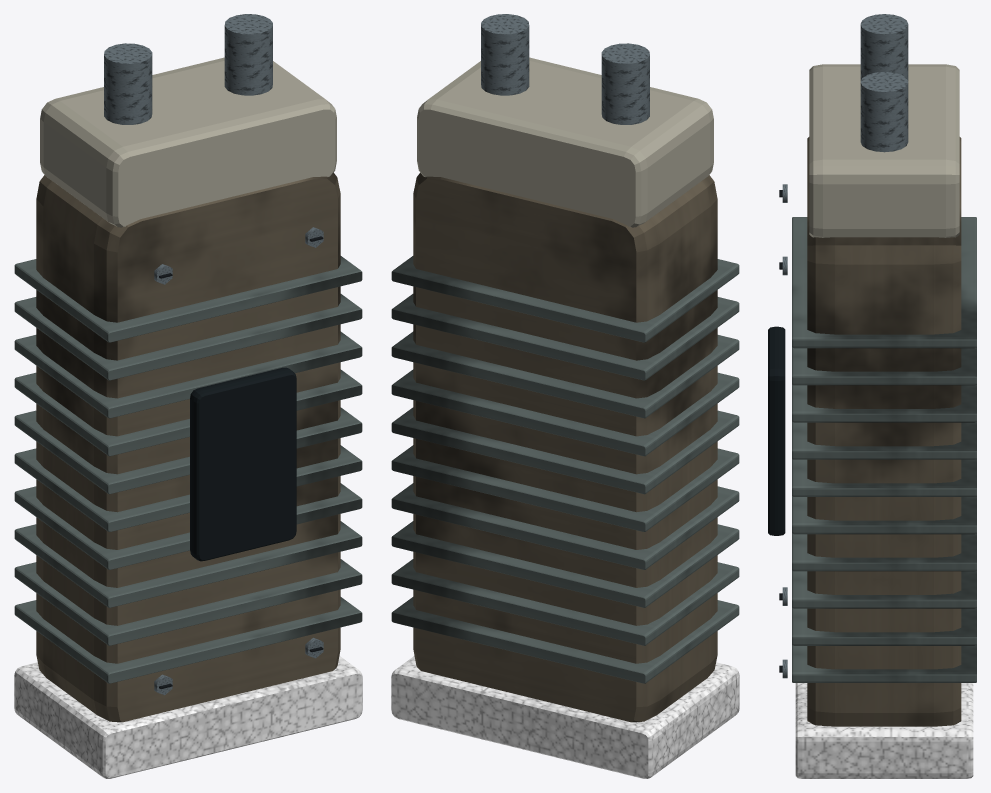
3 views of the same model, side by side, from view 1: azimuth 30°, elevation 25°; view 2: azimuth 150°, elevation 25°; view 3: azimuth 270°, elevation 25° (orthographic).
Parts seen in each view (by area): view 1: machined receiver, edge hardware, ceramic insulator, vulcanized grip, recess shadow, brushed steel; view 2: machined receiver, edge hardware, ceramic insulator, vulcanized grip, brushed steel; view 3: machined receiver, edge hardware, ceramic insulator, vulcanized grip, brushed steel, recess shadow.
Part boxes in pixels (x1,y1,x2,y2): machined receiver: (36,172,340,722); edge hardware: (14,256,362,683); ceramic insulator: (40,57,336,227); vulcanized grip: (14,656,362,778); recess shadow: (190,367,296,561); brushed steel: (104,14,323,695); machined receiver: (413,172,717,722); edge hardware: (391,256,739,683); ceramic insulator: (417,57,713,227); vulcanized grip: (391,656,739,778); brushed steel: (481,14,649,124); machined receiver: (807,137,961,726); edge hardware: (792,217,976,682); ceramic insulator: (809,64,959,237); vulcanized grip: (795,683,973,778); brushed steel: (782,14,908,678); recess shadow: (768,326,785,535).
Size of the model in its own units: 0.0866 by 0.2148 by 0.061.
Materials: 8 (4 with a texture image).
